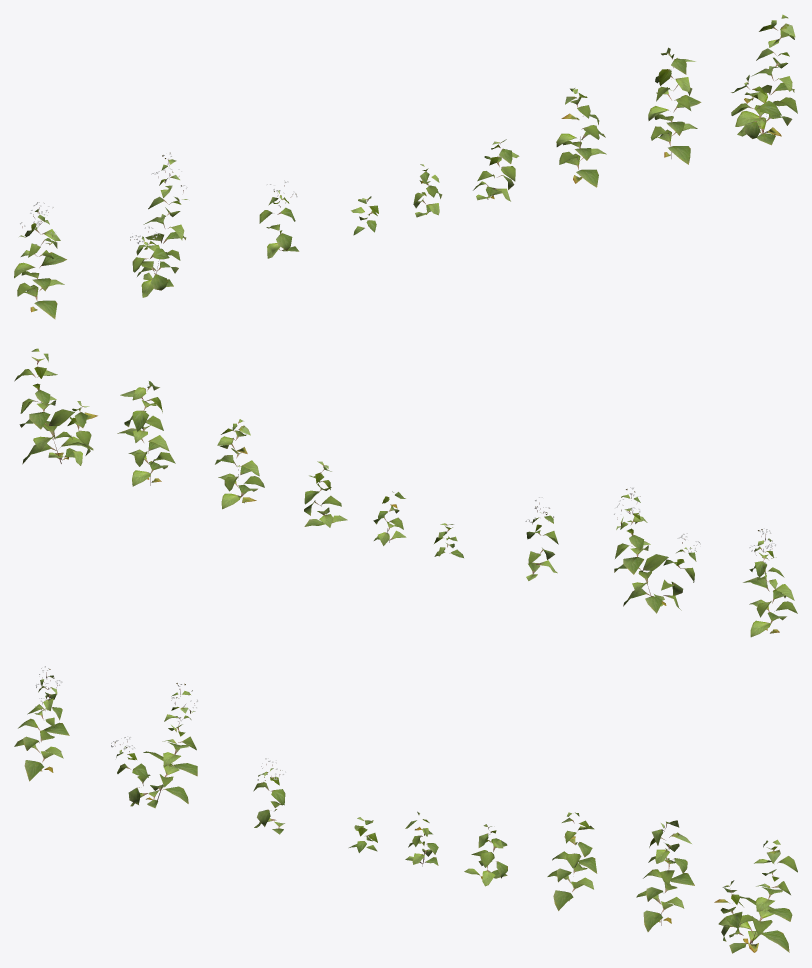
File: glb_shrub1.fa4648d5.glb
3 renders of one model, top to bottom at view 1: azimuth 30°, elevation 25°; view 2: azimuth 150°, elevation 25°; view 3: azimuth 330°, elevation 25°, orthographic. The views are drawn at different scales.
Visible parts, largest first — view 1: shrub_01_a; view 2: shrub_01_a; view 3: shrub_01_a.
Boxes of the visible parts, x1,y1,x2,y2 form: shrub_01_a: [14, 14, 797, 319]; shrub_01_a: [14, 348, 797, 637]; shrub_01_a: [14, 666, 797, 953].
Bounding box in the file's own units: 2.59 × 0.3944 × 0.2118.
Materials: 1 (1 with a texture image).
